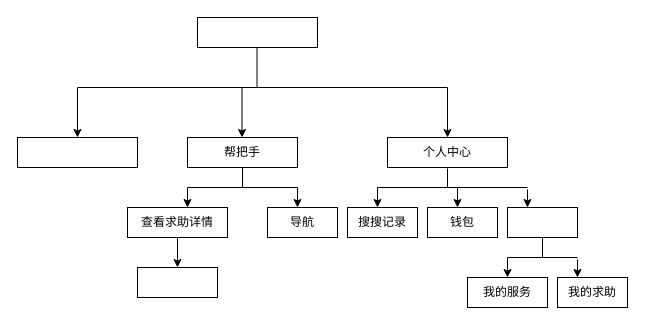
The diagram is 645 pixels wide and 325 high, and some of its shapes have lost their labels. Here are the shapes that lost their labels. From the top down, the centre of each, then its label:
At (257,32): "帮助模块".
At (77,152): "寻帮助".
At (542,222): "求帮记录".
At (177,282): "立即帮助".
